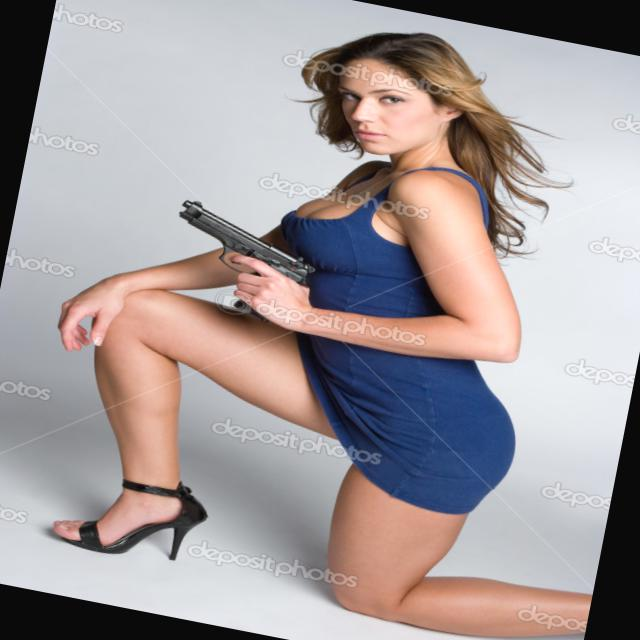handgun: (144, 192, 323, 336)
